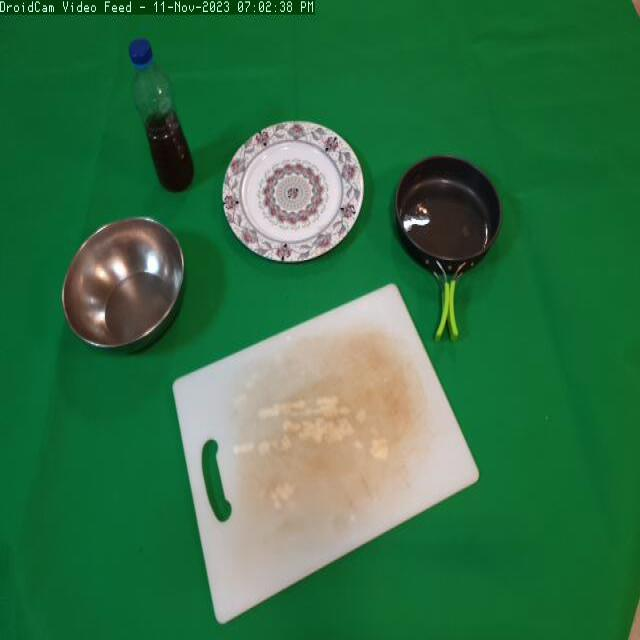bowl: (53, 211, 199, 366)
cutting board: (152, 272, 485, 632)
fullbottle: (123, 35, 197, 204)
pan: (385, 146, 506, 343)
plate: (220, 120, 376, 275)
